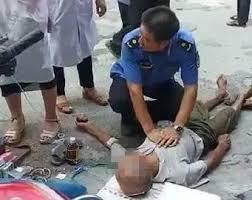Fall-Detected: (69, 68, 252, 193)
